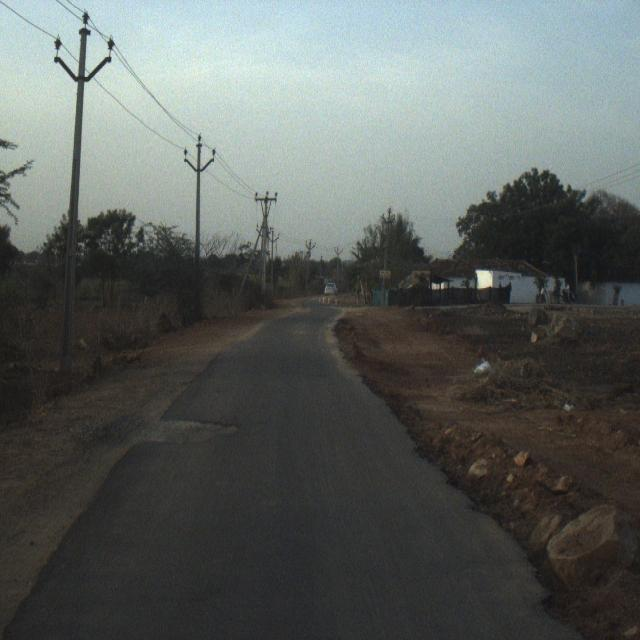Pothole: (152, 401, 240, 469), (515, 582, 587, 640)
